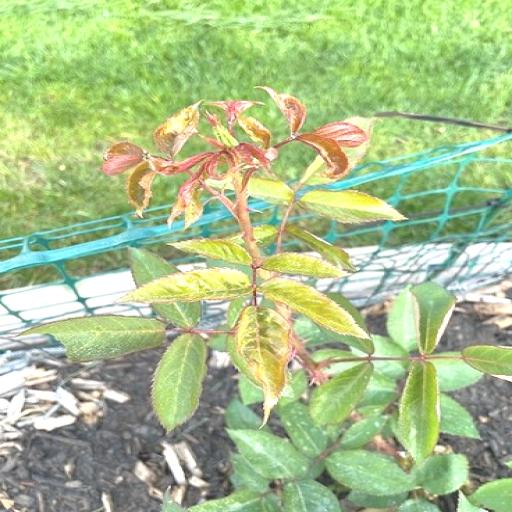healthy_leaf: (25, 315, 164, 361), (153, 334, 206, 430), (228, 429, 307, 479), (399, 362, 438, 461), (327, 450, 413, 494), (312, 362, 371, 425), (412, 282, 455, 354), (280, 402, 327, 458), (415, 454, 467, 494), (131, 248, 178, 285), (440, 394, 479, 438), (284, 480, 339, 511), (388, 287, 415, 348), (463, 345, 511, 377), (435, 359, 481, 390), (341, 415, 385, 447), (469, 478, 511, 511), (156, 304, 199, 325), (373, 335, 408, 356), (377, 361, 403, 377)
thrip: (259, 277, 367, 339), (235, 306, 289, 424), (120, 268, 250, 303), (303, 116, 374, 179), (296, 190, 405, 222), (257, 86, 305, 135), (260, 252, 346, 277), (173, 239, 249, 265), (248, 178, 292, 205), (238, 117, 269, 147)
